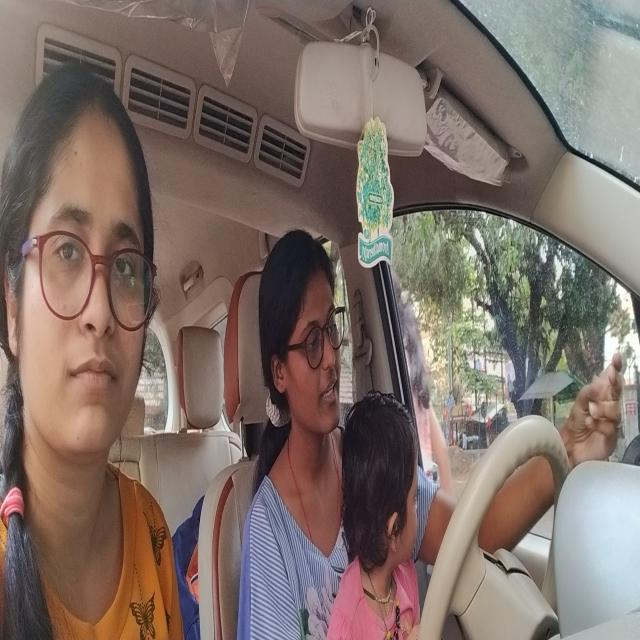child: (338, 385, 424, 581)
person: (1, 60, 160, 484), (258, 216, 348, 444)
